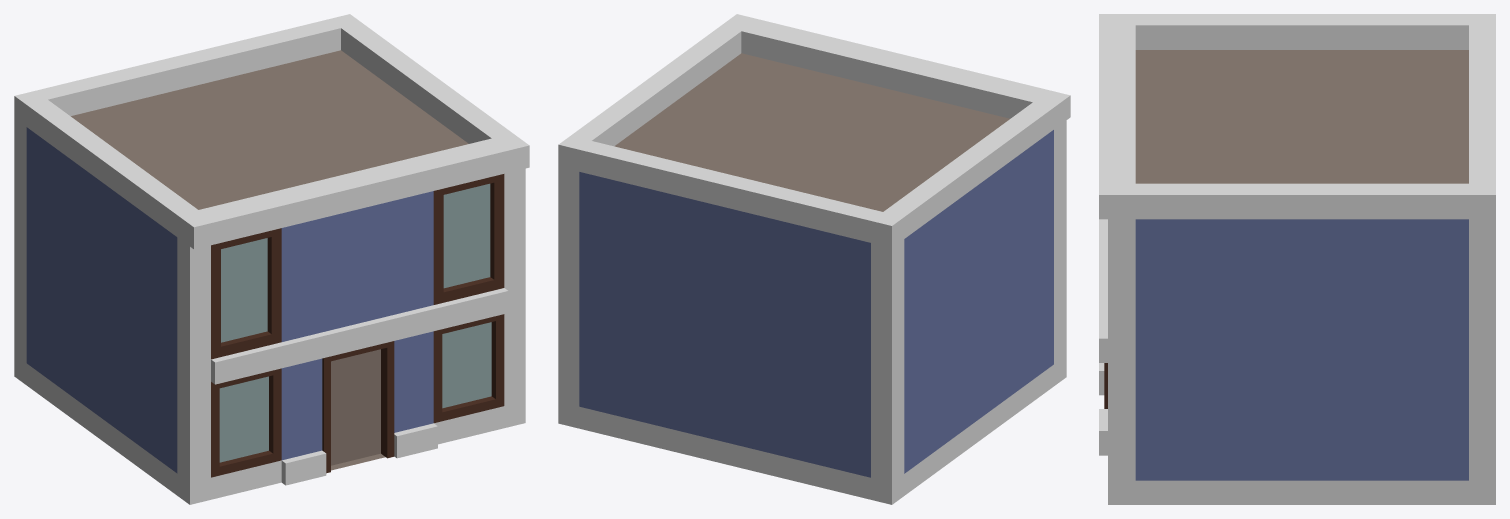
Rendered from smtblue.fbx.
The picture shows the model from 3 angles, left to right: view 1: azimuth 30°, elevation 25°; view 2: azimuth 150°, elevation 25°; view 3: azimuth 270°, elevation 25°; orthographic projection. The views are drawn at different scales.
Parts seen in each view (by area): view 1: pCube1; view 2: pCube1; view 3: pCube1.
Part boxes in pixels (x1,y1,x2,y2): pCube1: [14, 14, 529, 504]; pCube1: [558, 14, 1070, 504]; pCube1: [1099, 14, 1495, 504].
Bounding box in the file's own units: 23.78 × 19 × 22.04.
